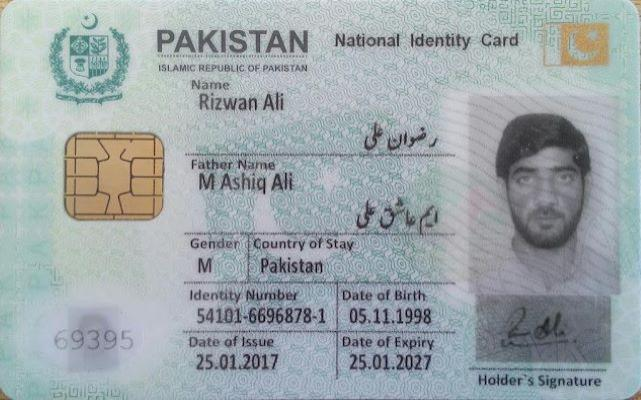fname: (195, 167, 297, 198)
name: (194, 90, 290, 114)
number: (194, 303, 329, 330)
